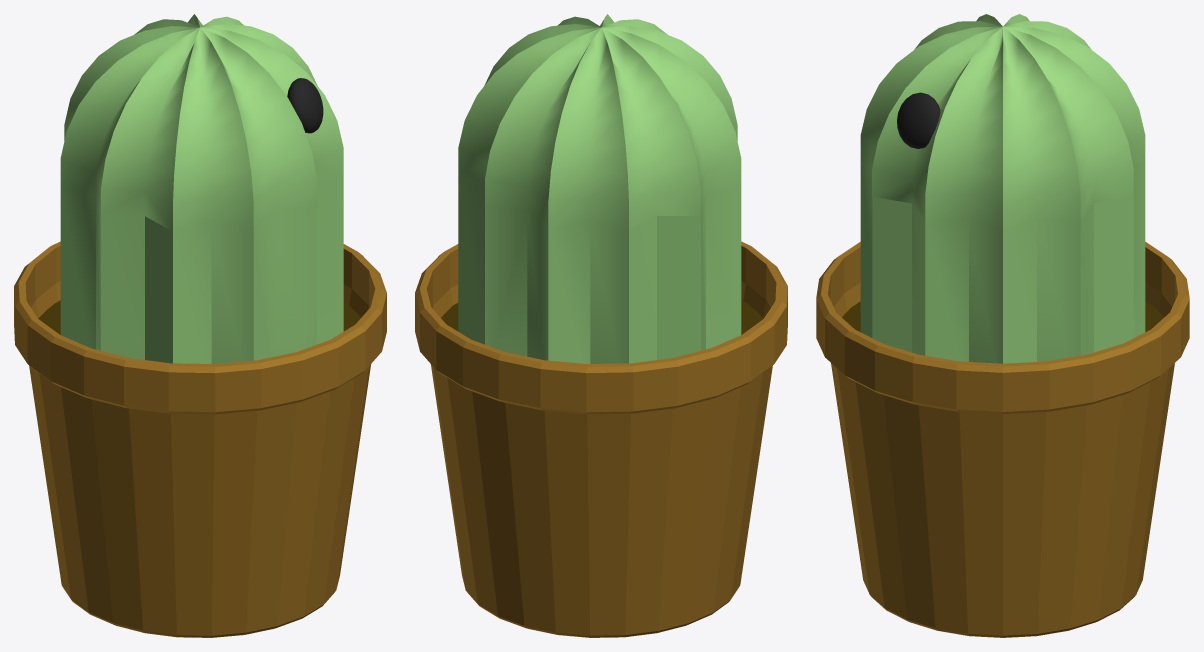
Rendered from Cactus_Animateable.fbx.
3 views of the same model, side by side, from view 1: azimuth 30°, elevation 25°; view 2: azimuth 150°, elevation 25°; view 3: azimuth 270°, elevation 25° (orthographic).
Visible parts, largest first — view 1: Pot1, Cactus_Body; view 2: Pot1, Cactus_Body; view 3: Pot1, Cactus_Body.
Part boxes in pixels (box(x1,y1,x2,y2)): Pot1: box(14, 241, 386, 637); Cactus_Body: box(60, 14, 343, 363); Pot1: box(415, 241, 787, 637); Cactus_Body: box(458, 14, 741, 363); Pot1: box(816, 242, 1189, 637); Cactus_Body: box(860, 14, 1145, 363).
Size of the model in its own units: 3.99 by 6.55 by 4.
